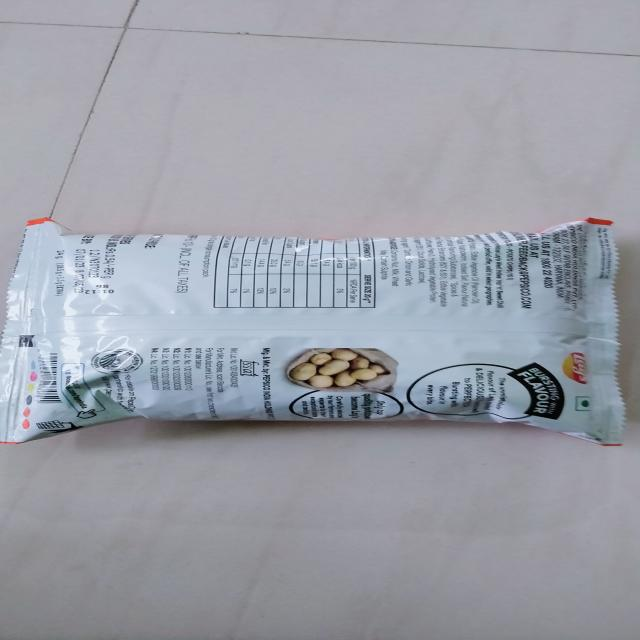lays: (3, 211, 640, 447)
